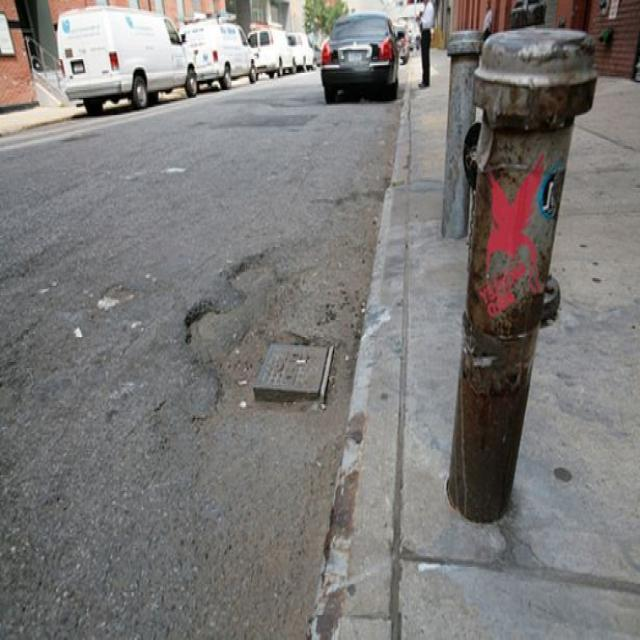Pothole: (180, 239, 274, 437)
